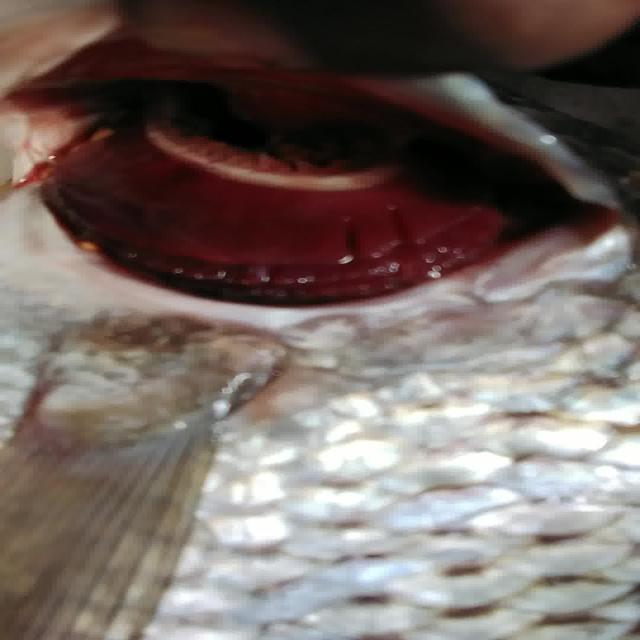Fresh: (12, 60, 628, 324)
